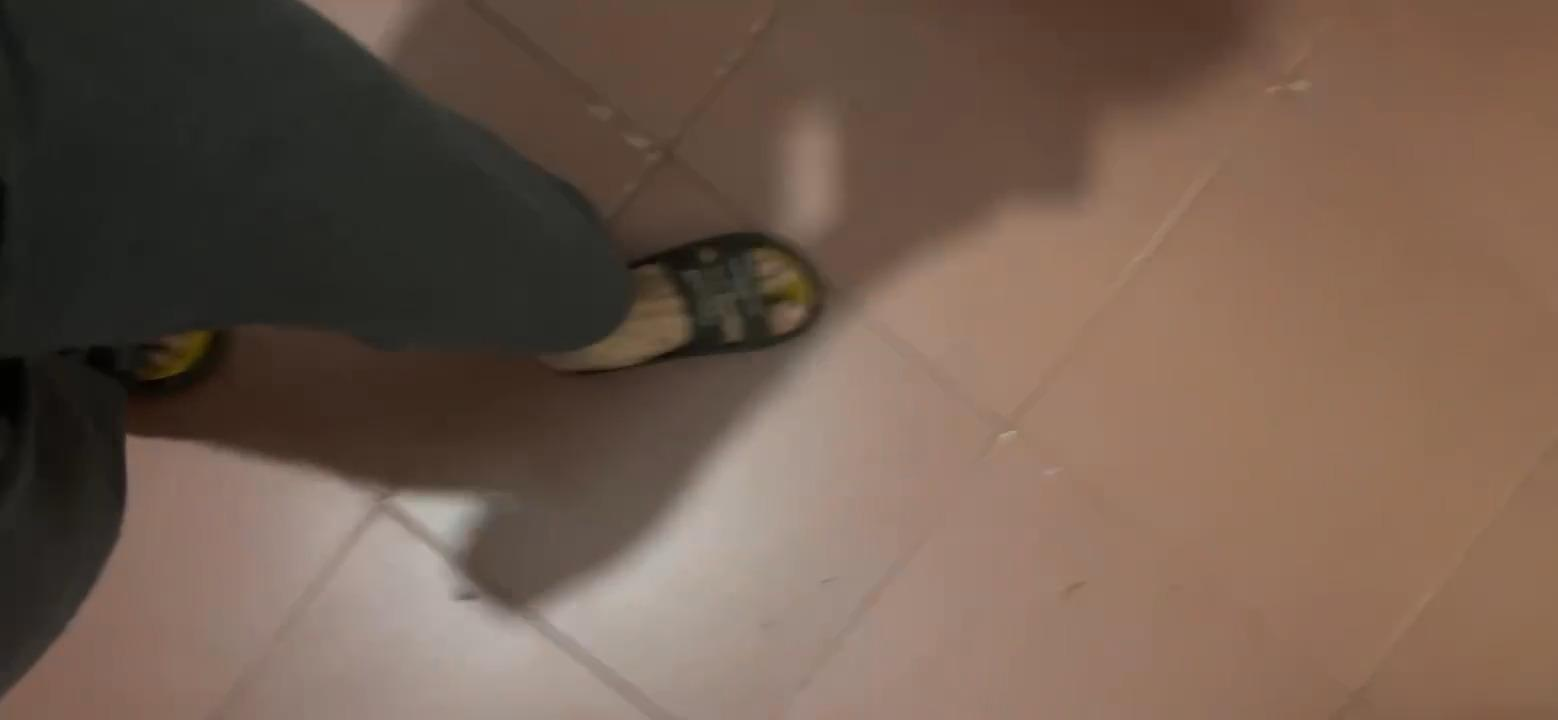no-boot: (529, 227, 844, 377)
